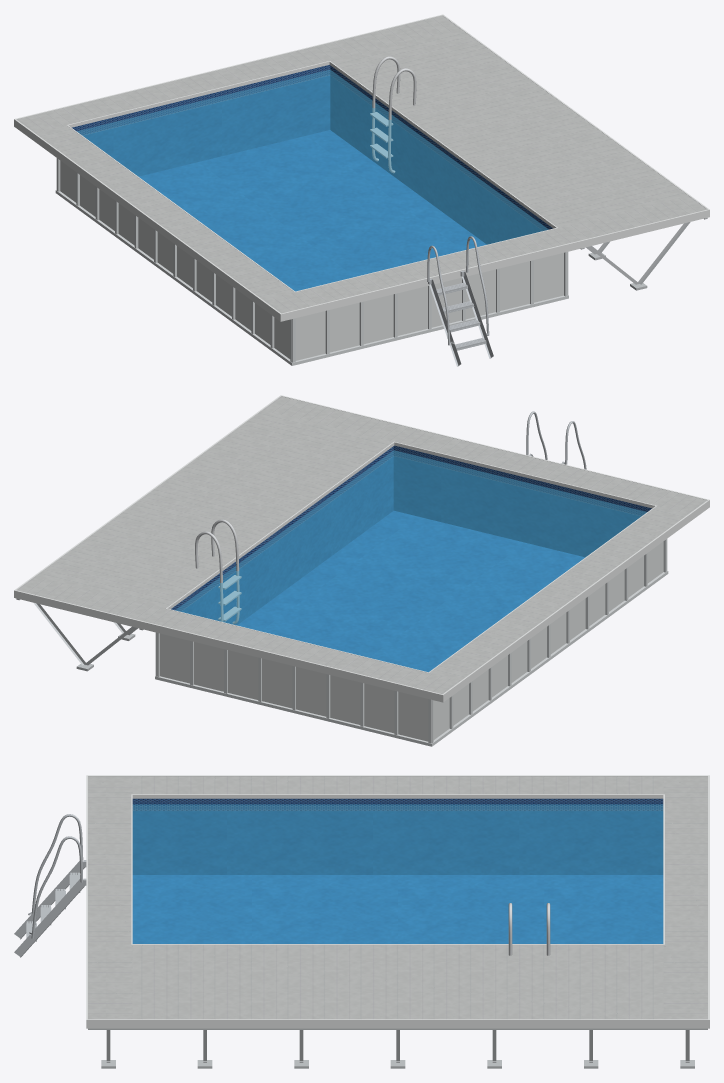
File: kayak-pool-16x24-white-side-ag-nofence.34f49a83d1.glb
The picture shows the model from 3 angles, top to bottom: view 1: azimuth 30°, elevation 25°; view 2: azimuth 150°, elevation 25°; view 3: azimuth 270°, elevation 25°; orthographic projection. The views are drawn at different scales.
Parts seen in each view (by area): view 1: water, deck, liner_floor, liner_wall, wall, fascia, upright, ladder, steel, stud; view 2: water, deck, liner_floor, liner_wall, wall, fascia, upright, steel, stud, ladder; view 3: water, deck, liner_wall, liner_floor, fascia, stud, ladder, steel.
Part boxes in pixels (bbox=[...]): water: bbox=[77, 69, 548, 291]; deck: bbox=[16, 15, 707, 313]; liner_floor: bbox=[139, 130, 486, 291]; liner_wall: bbox=[72, 65, 552, 244]; wall: bbox=[60, 161, 563, 360]; fascia: bbox=[14, 14, 709, 321]; upright: bbox=[55, 158, 568, 365]; ladder: bbox=[427, 236, 493, 366]; steel: bbox=[370, 56, 416, 173]; stud: bbox=[580, 218, 707, 290]; water: bbox=[175, 450, 646, 671]; deck: bbox=[17, 396, 706, 694]; liner_floor: bbox=[237, 511, 584, 671]; liner_wall: bbox=[171, 445, 651, 625]; wall: bbox=[160, 541, 663, 741]; fascia: bbox=[14, 395, 709, 702]; upright: bbox=[155, 539, 668, 746]; steel: bbox=[195, 519, 241, 624]; stud: bbox=[16, 598, 143, 671]; ladder: bbox=[526, 411, 586, 469]; water: bbox=[132, 804, 663, 943]; deck: bbox=[88, 776, 707, 1019]; liner_wall: bbox=[132, 798, 663, 874]; liner_floor: bbox=[132, 875, 663, 943]; fascia: bbox=[86, 775, 709, 1028]; stud: bbox=[88, 1028, 707, 1068]; ladder: bbox=[14, 814, 86, 957]; steel: bbox=[508, 903, 550, 955].
Size of the model in its own units: 7.93 by 1.9 by 9.52.
10 materials, 3 textured.
